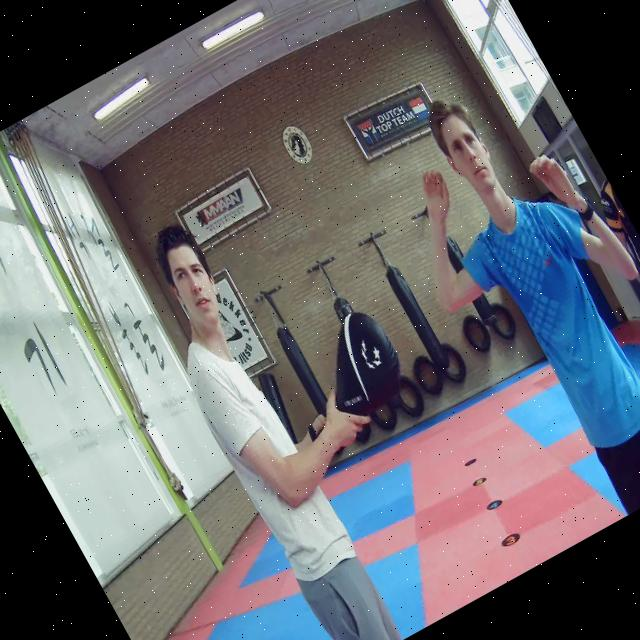paddle: (335, 312, 398, 413)
